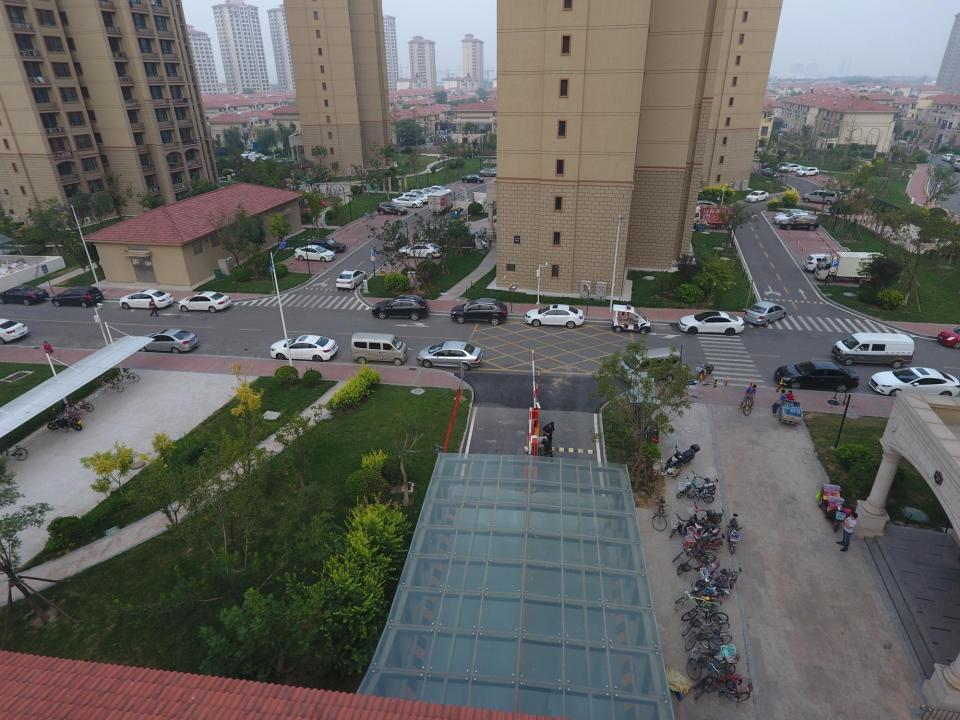car: (869, 367, 960, 400), (774, 361, 859, 393), (416, 341, 482, 371), (270, 335, 338, 363), (678, 311, 744, 336), (136, 328, 199, 354), (450, 298, 508, 326), (372, 294, 430, 321), (524, 304, 584, 328), (177, 291, 231, 313), (50, 286, 104, 308), (119, 289, 174, 309), (744, 301, 786, 327), (0, 284, 48, 305), (803, 253, 849, 274), (0, 318, 29, 344), (398, 242, 442, 259), (778, 214, 820, 231), (294, 245, 335, 262), (307, 238, 346, 254), (336, 269, 366, 289), (774, 212, 810, 225), (383, 234, 408, 250), (773, 209, 809, 220), (392, 196, 423, 208), (410, 189, 436, 202), (401, 192, 429, 204), (420, 187, 444, 200), (428, 185, 452, 197), (745, 190, 768, 202), (795, 167, 819, 177), (462, 174, 485, 183), (761, 168, 780, 178), (478, 169, 501, 177), (779, 164, 802, 172), (773, 162, 794, 170), (761, 160, 779, 168), (948, 155, 960, 164), (941, 154, 955, 161), (252, 156, 266, 162), (248, 152, 262, 158), (240, 151, 252, 158), (244, 157, 257, 163), (256, 154, 269, 160), (953, 164, 960, 171)
truck: (815, 252, 886, 285), (686, 204, 735, 229), (428, 190, 456, 216)
van: (832, 332, 914, 368), (618, 347, 681, 385), (350, 332, 408, 366), (802, 189, 841, 205), (377, 202, 408, 215), (827, 188, 858, 199), (689, 200, 719, 210), (952, 158, 960, 168)
